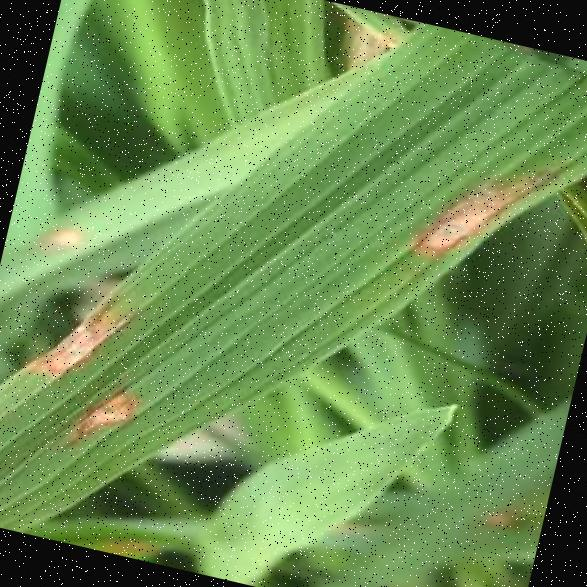Leaf_smut: (382, 105, 568, 290), (0, 253, 155, 411), (27, 360, 165, 451)
